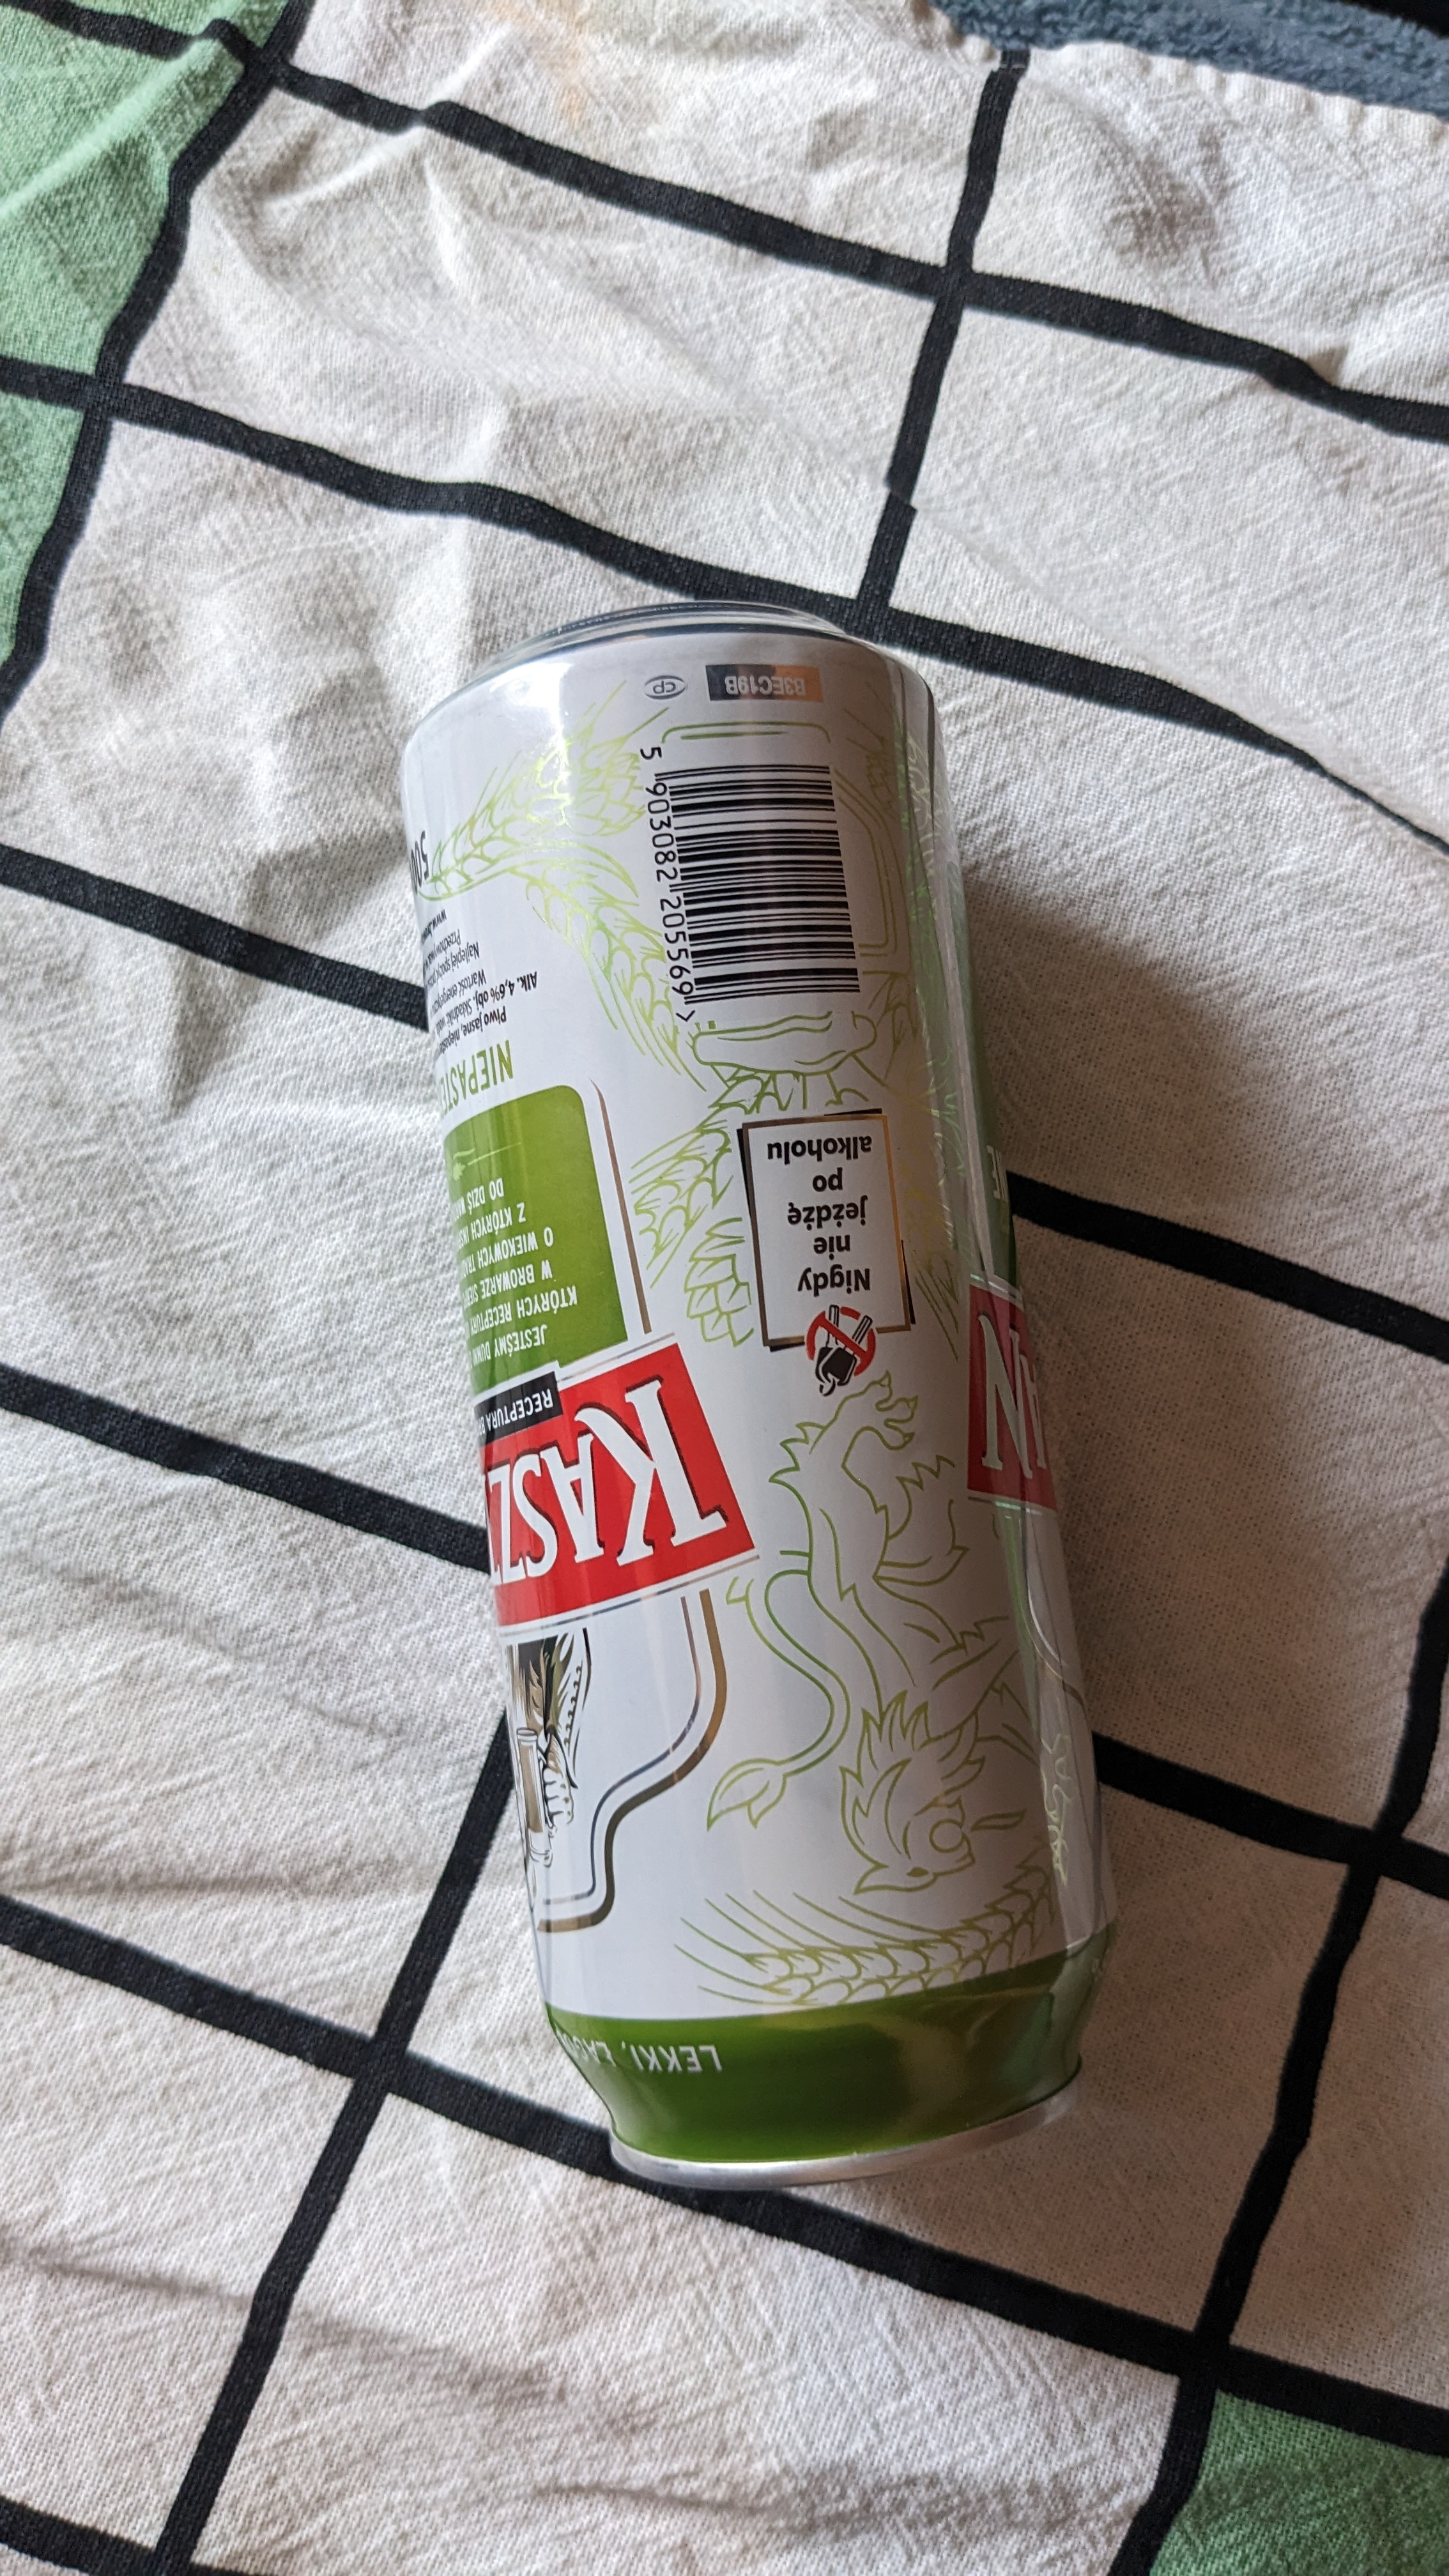kasztelan: (379, 598, 1138, 2196)
